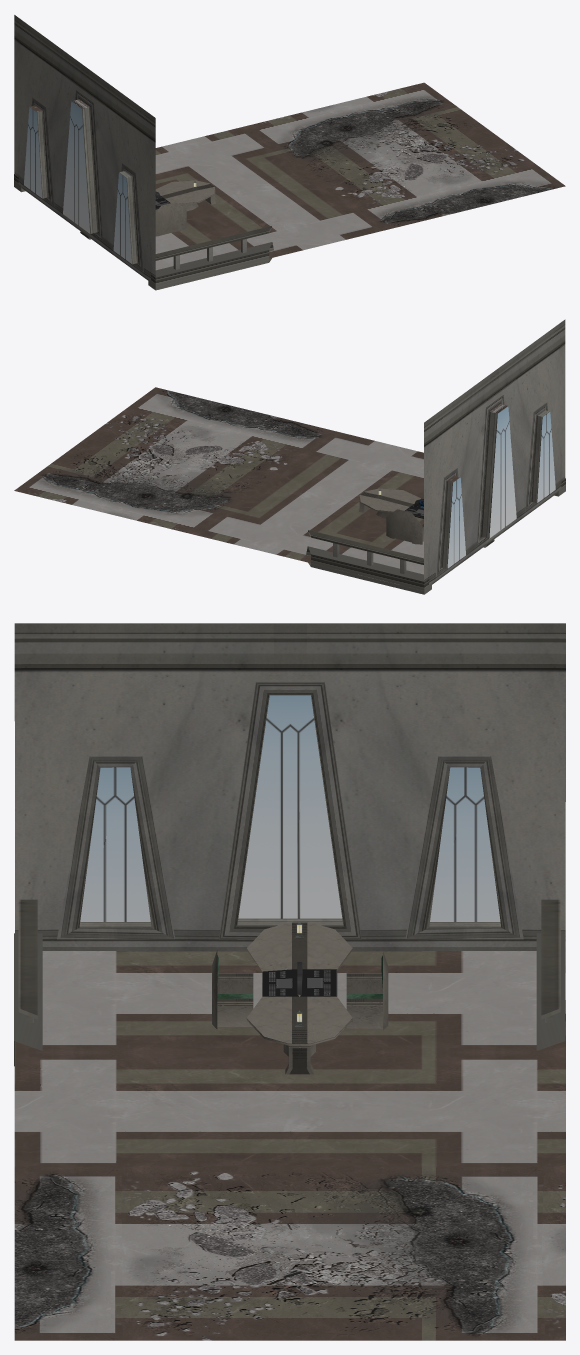
File: Cor1_bldg_library_upper_P_light.fbx
The picture shows the model from 3 angles, top to bottom: view 1: azimuth 30°, elevation 25°; view 2: azimuth 150°, elevation 25°; view 3: azimuth 270°, elevation 25°; orthographic projection. The views are drawn at different scales.
Visible parts, largest first — view 1: Main_library_upper_P_light1, bannisters, polymsh1422; view 2: Main_library_upper_P_light1, bannisters, polymsh1422; view 3: Main_library_upper_P_light1, polymsh1422, bannisters.
Boxes of the visible parts, x1=… form: Main_library_upper_P_light1: x1=14, y1=15, x2=565, y2=280; bannisters: x1=14, y1=174, x2=273, y2=290; polymsh1422: x1=80, y1=180, x2=215, y2=239; Main_library_upper_P_light1: x1=14, y1=319, x2=565, y2=590; bannisters: x1=306, y1=478, x2=565, y2=594; polymsh1422: x1=359, y1=488, x2=494, y2=547; Main_library_upper_P_light1: x1=14, y1=623, x2=565, y2=1340; polymsh1422: x1=212, y1=922, x2=388, y2=1074; bannisters: x1=14, y1=899, x2=565, y2=1066.
Size of the model in its own units: 1835 by 723 by 1076.
